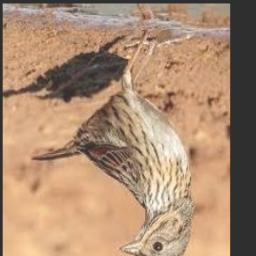Sparrow: (31, 32, 194, 256)
